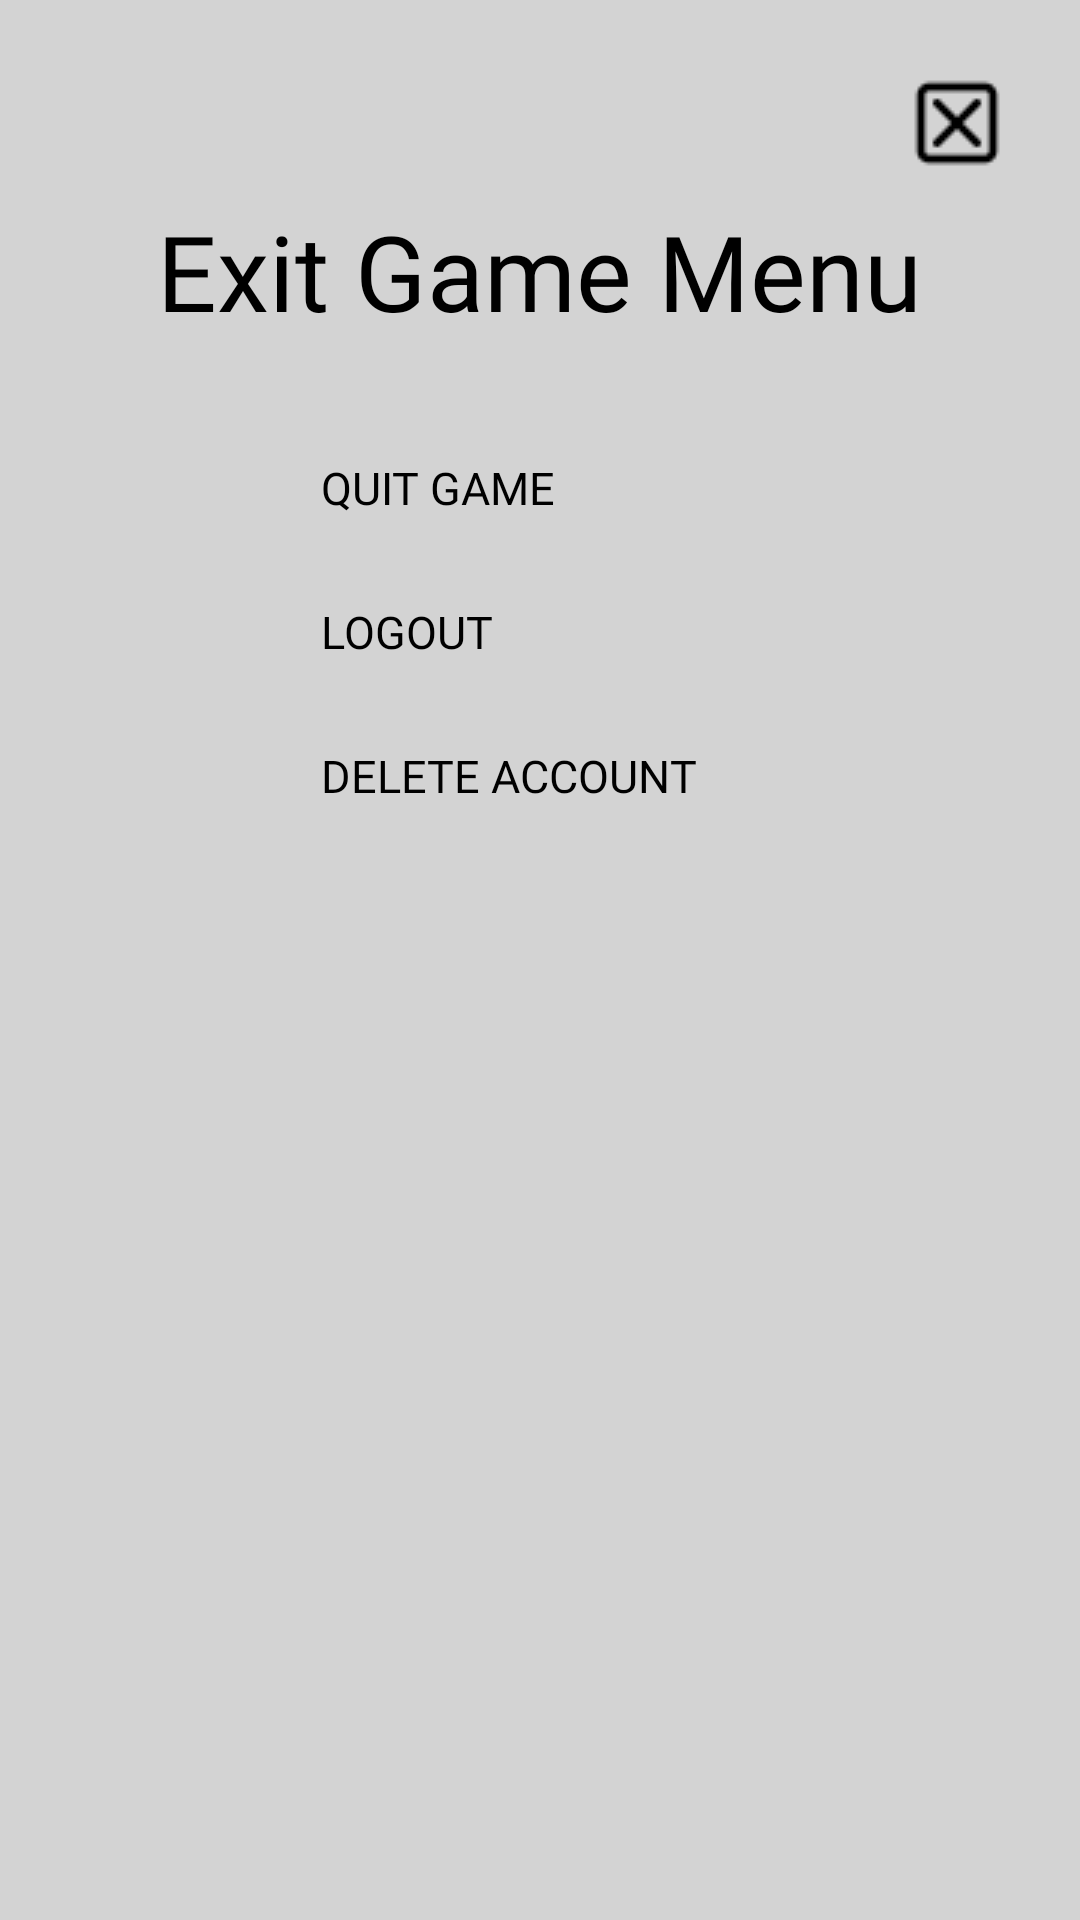

Point at icon controls on the screen. Image size 1080px x 1920px, points as (x=x, y=y).
close window: (x=957, y=123)
